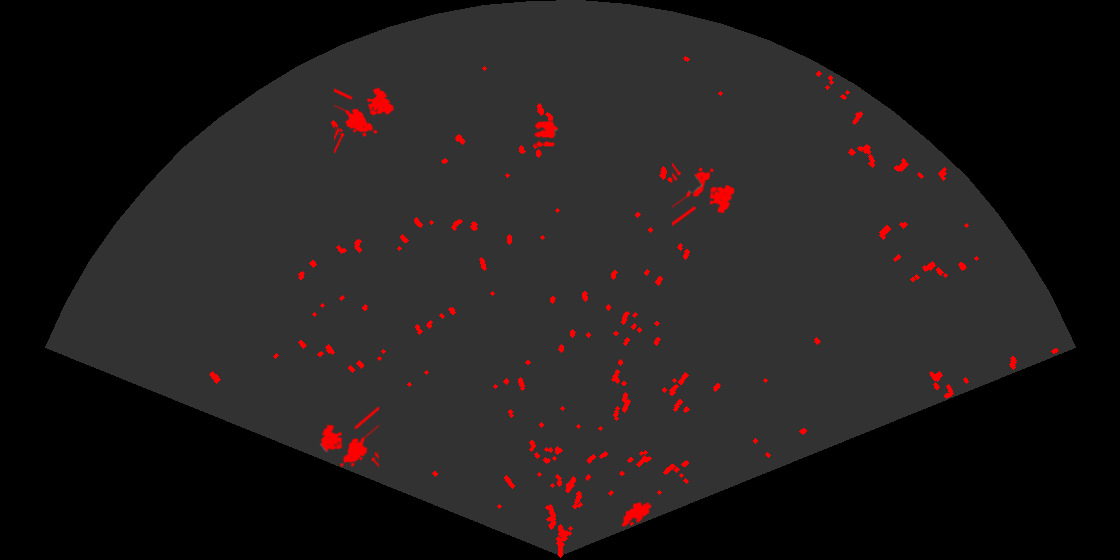AUV: (620, 500, 653, 529)
ball: (532, 120, 560, 149)
cage: (672, 161, 736, 228), (334, 86, 396, 153), (319, 407, 379, 469)
